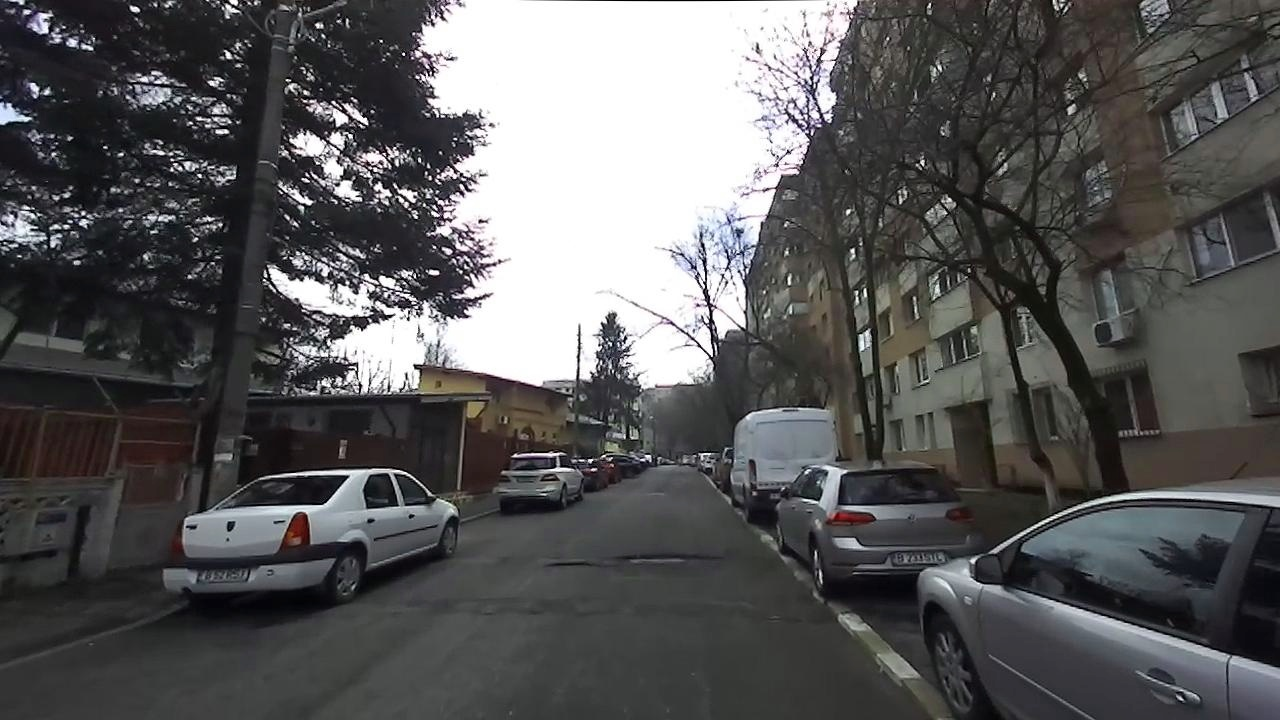pothole: (615, 548, 725, 569), (544, 558, 606, 571)
